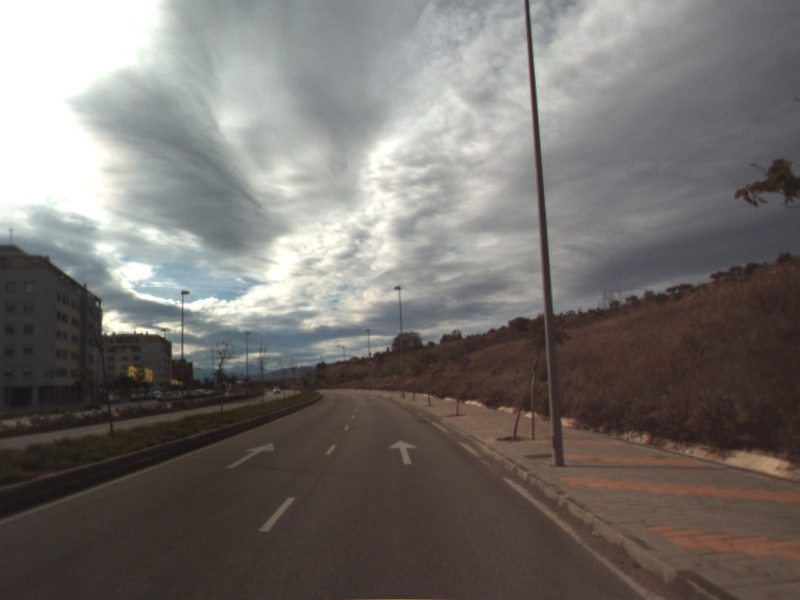STRAIGHT: (225, 440, 277, 470), (386, 438, 420, 466)
